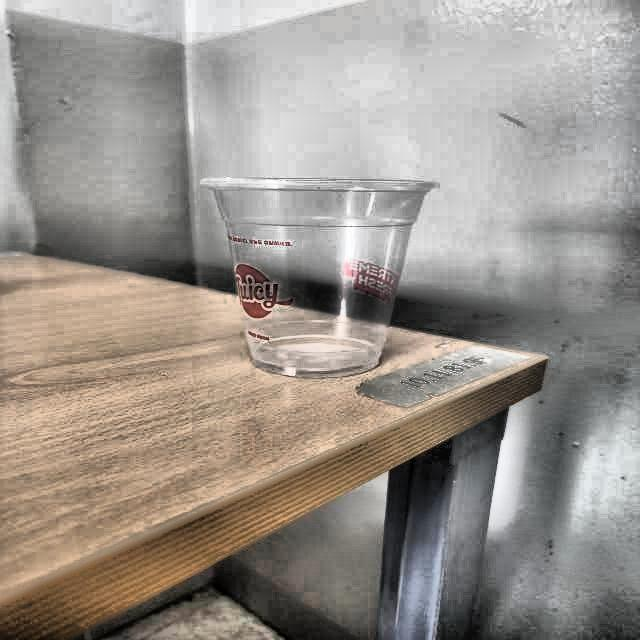plastic cup: (198, 174, 451, 376)
